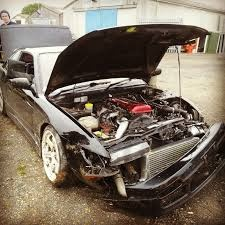Dent: (63, 131, 104, 181)
Smashed: (112, 122, 222, 213)
